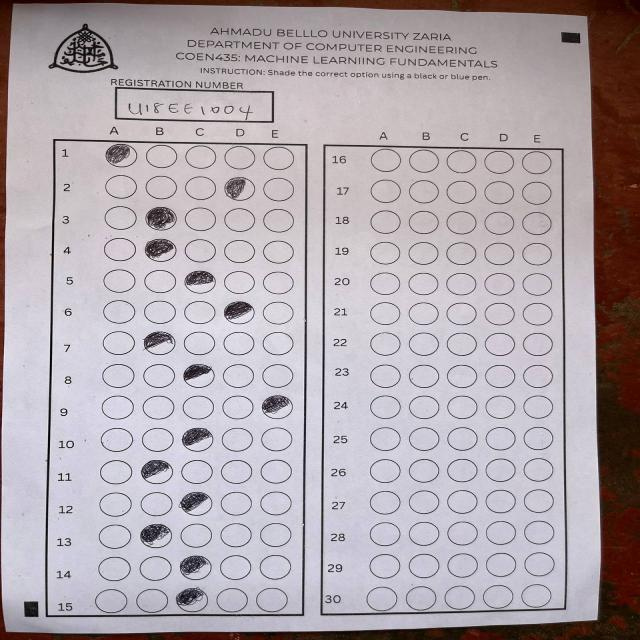bubble: (105, 143, 139, 169), (176, 586, 209, 612), (178, 555, 211, 579), (140, 524, 172, 548), (144, 238, 177, 261), (143, 331, 175, 354), (226, 177, 256, 201), (146, 207, 177, 230), (141, 459, 172, 482), (184, 270, 216, 292), (181, 428, 213, 450), (179, 492, 211, 514), (262, 395, 292, 418), (224, 300, 254, 322), (183, 364, 214, 384)
